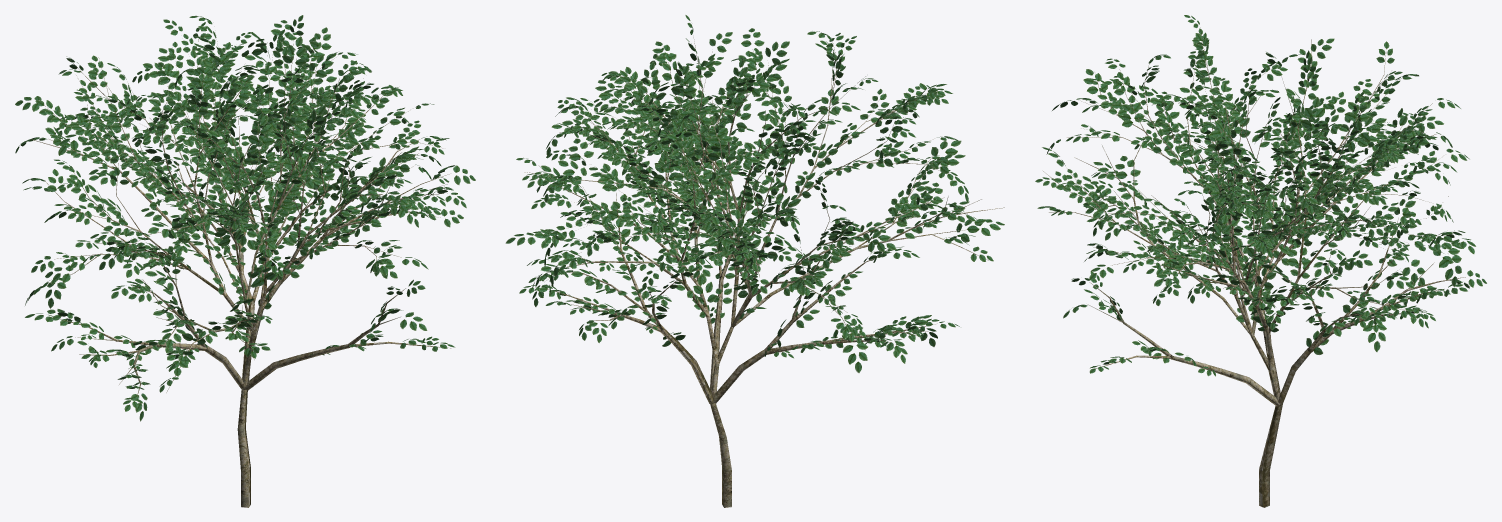
Rendered from talltree.fbx.
3 renders of one model, left to right at view 1: azimuth 30°, elevation 25°; view 2: azimuth 150°, elevation 25°; view 3: azimuth 270°, elevation 25°, orthographic. The views are drawn at different scales.
Parts seen in each view (by area): view 1: Tree; view 2: Tree; view 3: Tree.
Boxes of the visible parts, x1,y1,x2,y2 form: Tree: [32, 35, 451, 507]; Tree: [524, 37, 1004, 507]; Tree: [1042, 27, 1465, 507].
Bounding box in the file's own units: 3001 × 3504 × 3122.
2 materials, 2 textured.
